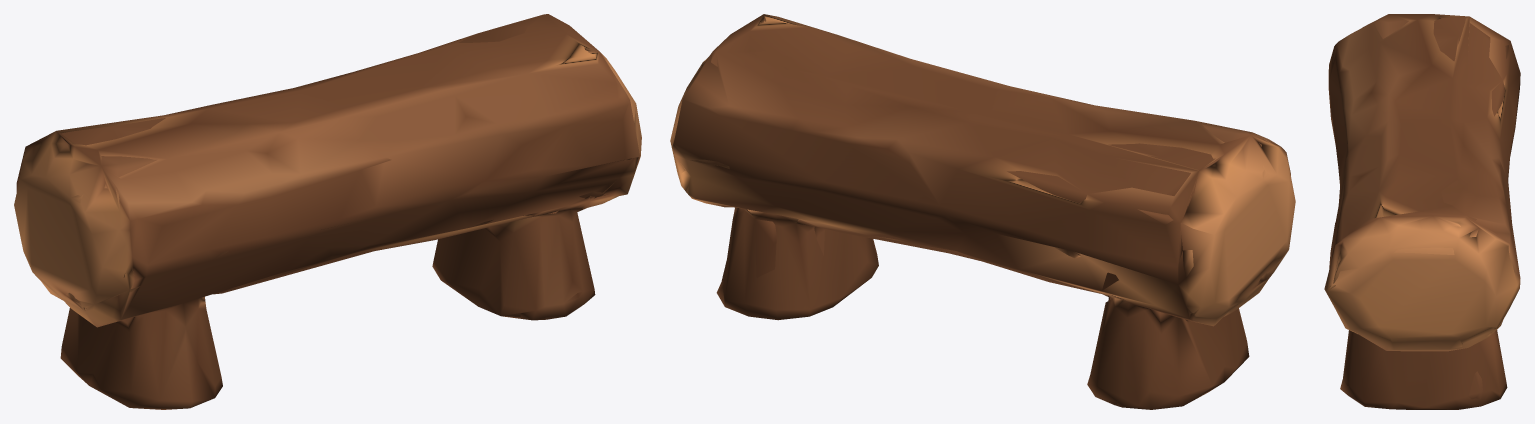
Rendered from gen3d-log-bench-lod0.glb.
3 views of the same model, side by side, from view 1: azimuth 30°, elevation 25°; view 2: azimuth 150°, elevation 25°; view 3: azimuth 270°, elevation 25° (orthographic). The views are drawn at different scales.
Parts seen in each view (by area): view 1: part_0; view 2: part_0; view 3: part_0.
Part boxes in pixels (left/top/right/bottom): part_0: left=14, top=14, right=641, bottom=409; part_0: left=670, top=14, right=1295, bottom=409; part_0: left=1324, top=14, right=1520, bottom=409.
Bounding box in the file's own units: 2.4 × 0.9987 × 0.8969.
